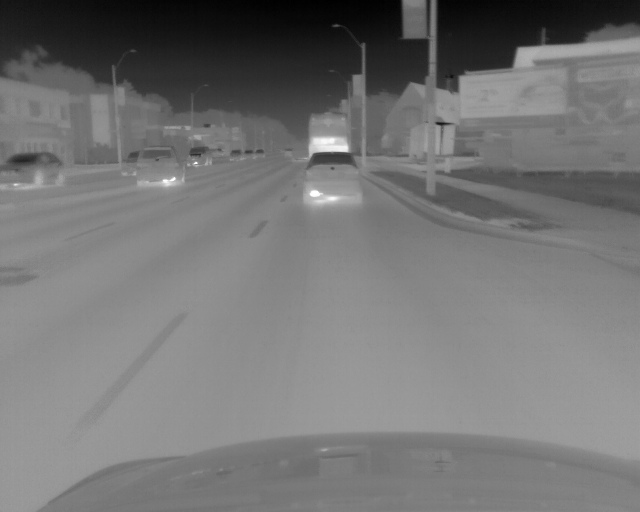car: (302, 151, 362, 206), (1, 152, 66, 191), (307, 111, 349, 163), (135, 146, 184, 188), (184, 146, 211, 169), (122, 151, 136, 178), (227, 149, 240, 162), (282, 147, 293, 161), (242, 150, 252, 160), (254, 149, 264, 159)
